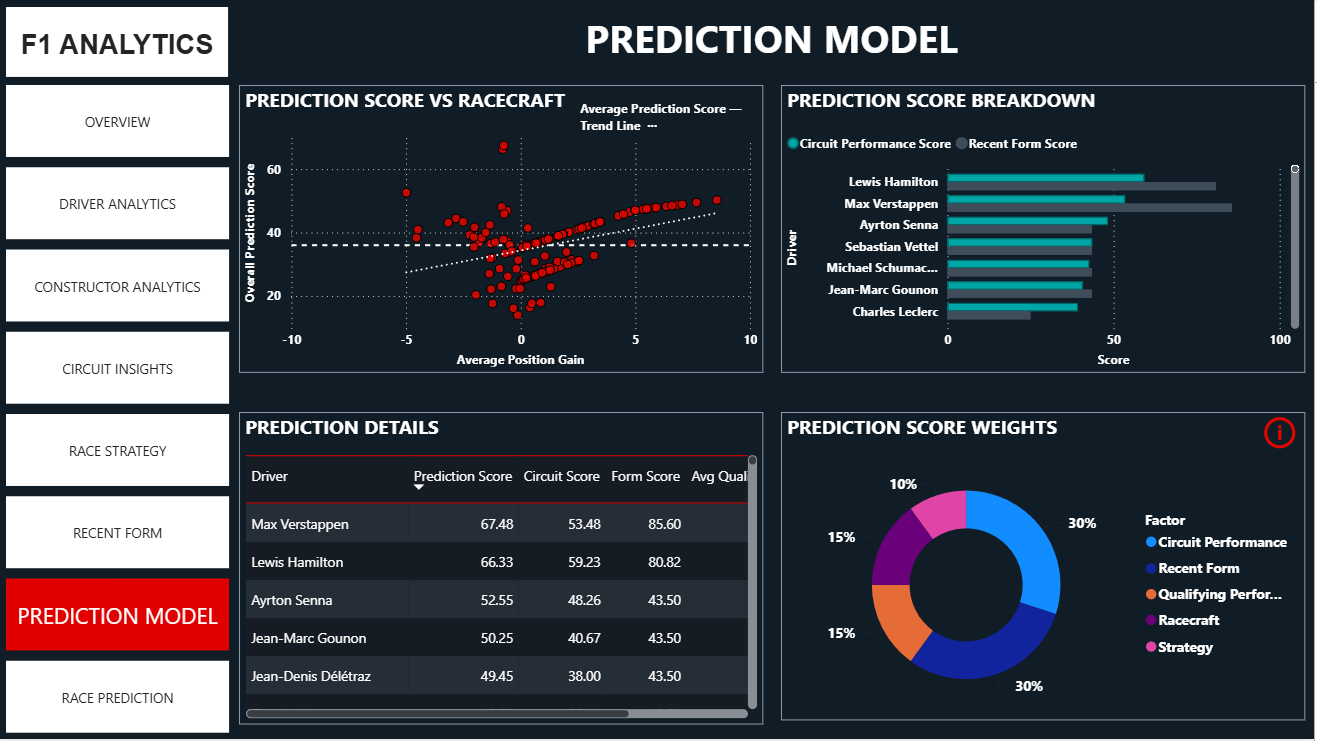

The page's visual inventory and layout, read from the dashboard file:
{"tool":"powerbi","page":{"name":"PREDICTION MODEL","canvas":[1280,720],"ordinal":6},"visuals":[{"type":"tableEx","title":"PREDICTION DETAILS","fields":{"Values":["drivers_clean.driverName","results_clean.Overall Prediction Score","results_clean.Circuit Performance Score","results_clean.Recent Form Score","qualifying_clean.Circuit Avg Qualifying Position","results_clean.Average Position Gain"]},"box":[234.4,401.3,510.1,303.8],"z":0},{"type":"textbox","box":[8.2,8.2,216.4,68.2],"z":1000},{"type":"pageNavigator","title":"              F1 ANALYTICS","box":[8.2,83.6,217.3,635.5],"z":2000},{"type":"textbox","box":[234.5,8.2,1036.4,68.2],"z":3000},{"type":"scatterChart","title":"PREDICTION SCORE VS RACECRAFT","fields":{"Category":["drivers_clean.driverName"],"X":["results_clean.Average Position Gain"],"Y":["results_clean.Overall Prediction Score"]},"box":[234.4,83.6,510,280],"z":4000},{"type":"clusteredBarChart","title":"PREDICTION SCORE BREAKDOWN","fields":{"Category":["drivers_clean.driverName"],"Y":["results_clean.Circuit Performance Score","results_clean.Recent Form Score"]},"box":[761.6,83.6,510,280.1],"z":5000},{"type":"donutChart","title":"PREDICTION SCORE WEIGHTS","fields":{"Category":["PredictionWeights.Factor"],"Y":["Sum(PredictionWeights.Weight)"]},"box":[761.3,401.3,510.1,300.3],"z":8000},{"type":"actionButton","box":[1226.6,401.3,44.8,40.4],"z":9000},{"type":"textbox","box":[561.2,91.4,175.1,44.7],"z":11000}]}

Visuals, with their boxes in screenshot pixels (x1, y1, x2, y2), scaled from the page's 1280x720 canvas onto the 1317x741 screenshot:
"PREDICTION DETAILS" tableEx: <bbox>241, 413, 766, 726</bbox>
textbox: <bbox>8, 8, 231, 79</bbox>
"              F1 ANALYTICS" pageNavigator: <bbox>8, 86, 232, 740</bbox>
textbox: <bbox>241, 8, 1308, 79</bbox>
"PREDICTION SCORE VS RACECRAFT" scatterChart: <bbox>241, 86, 766, 374</bbox>
"PREDICTION SCORE BREAKDOWN" clusteredBarChart: <bbox>784, 86, 1308, 374</bbox>
"PREDICTION SCORE WEIGHTS" donutChart: <bbox>783, 413, 1308, 722</bbox>
actionButton: <bbox>1262, 413, 1308, 455</bbox>
textbox: <bbox>577, 94, 758, 140</bbox>
